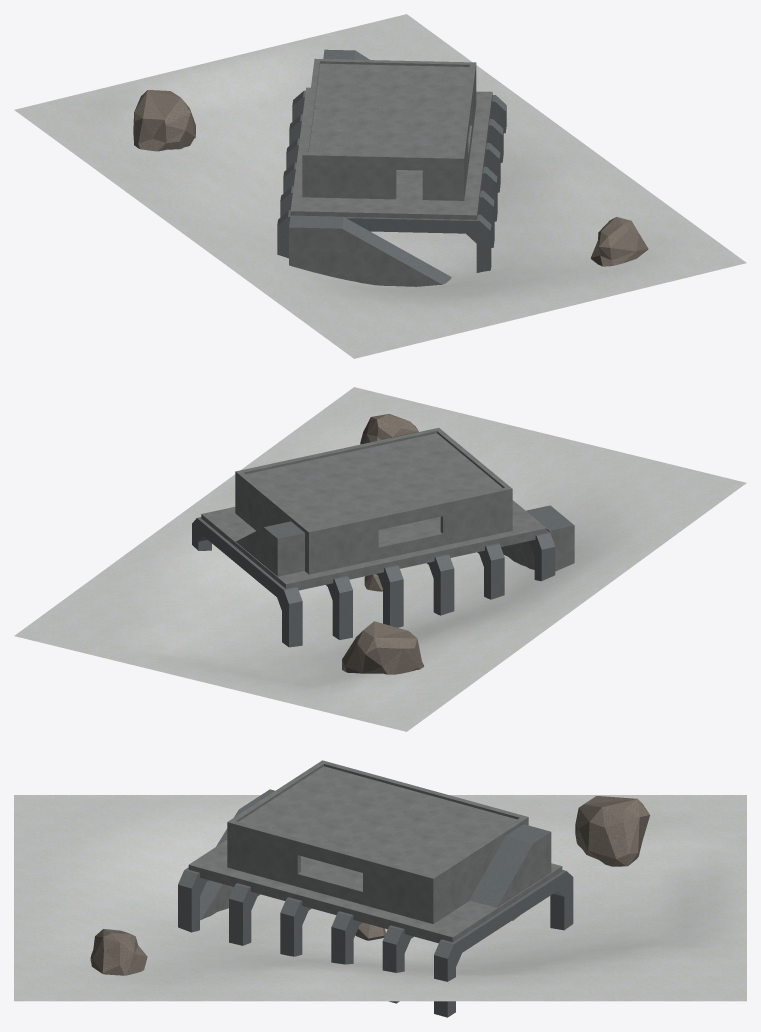
The model's file is bigbox_2.obj.
3 views of the same model, one above another, from view 1: azimuth 30°, elevation 25°; view 2: azimuth 150°, elevation 25°; view 3: azimuth 270°, elevation 25° (orthographic). The views are drawn at different scales.
Parts seen in each view (by area): view 1: bigbox_2_Cube.104; view 2: bigbox_2_Cube.104; view 3: bigbox_2_Cube.104.
Part boxes in pixels (box(x1,y1,x2,y2)): bigbox_2_Cube.104: box(14, 14, 746, 358); bigbox_2_Cube.104: box(14, 387, 746, 731); bigbox_2_Cube.104: box(14, 760, 746, 1017).
Bounding box in the file's own units: 1024 × 298 × 1536.
